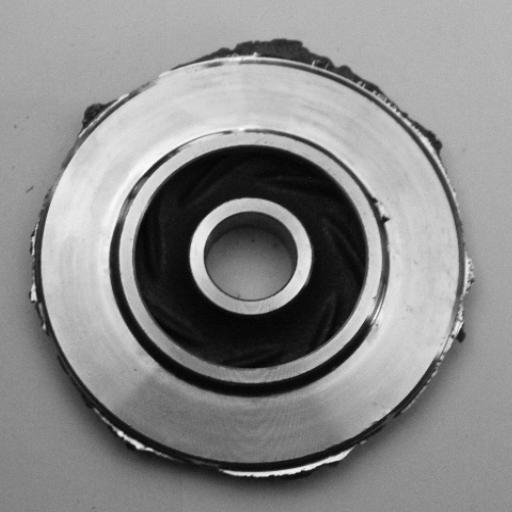casting_with_burr: (22, 34, 481, 484)
crack: (365, 188, 399, 230)
scratch: (185, 111, 263, 149), (359, 271, 393, 341)
